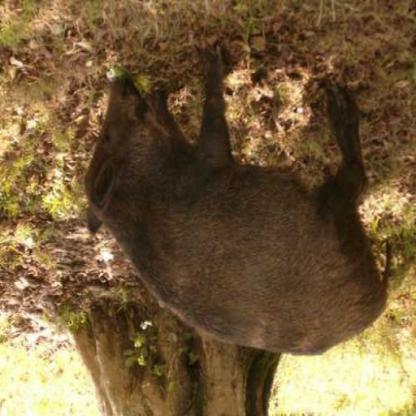boar: (43, 47, 416, 362)
